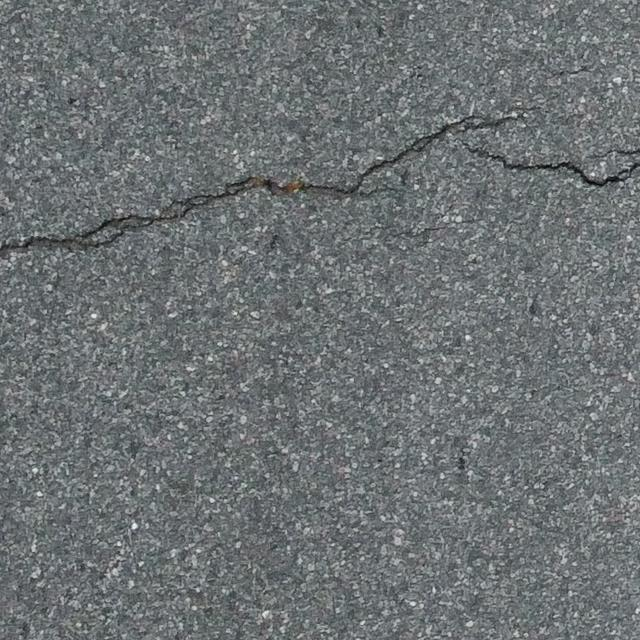TransverseCrack: (1, 113, 640, 259)
